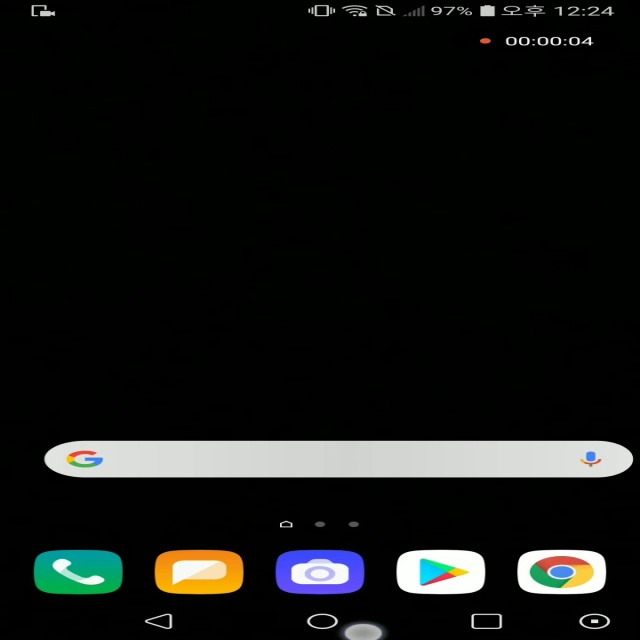Cursor: (343, 622, 388, 640)
